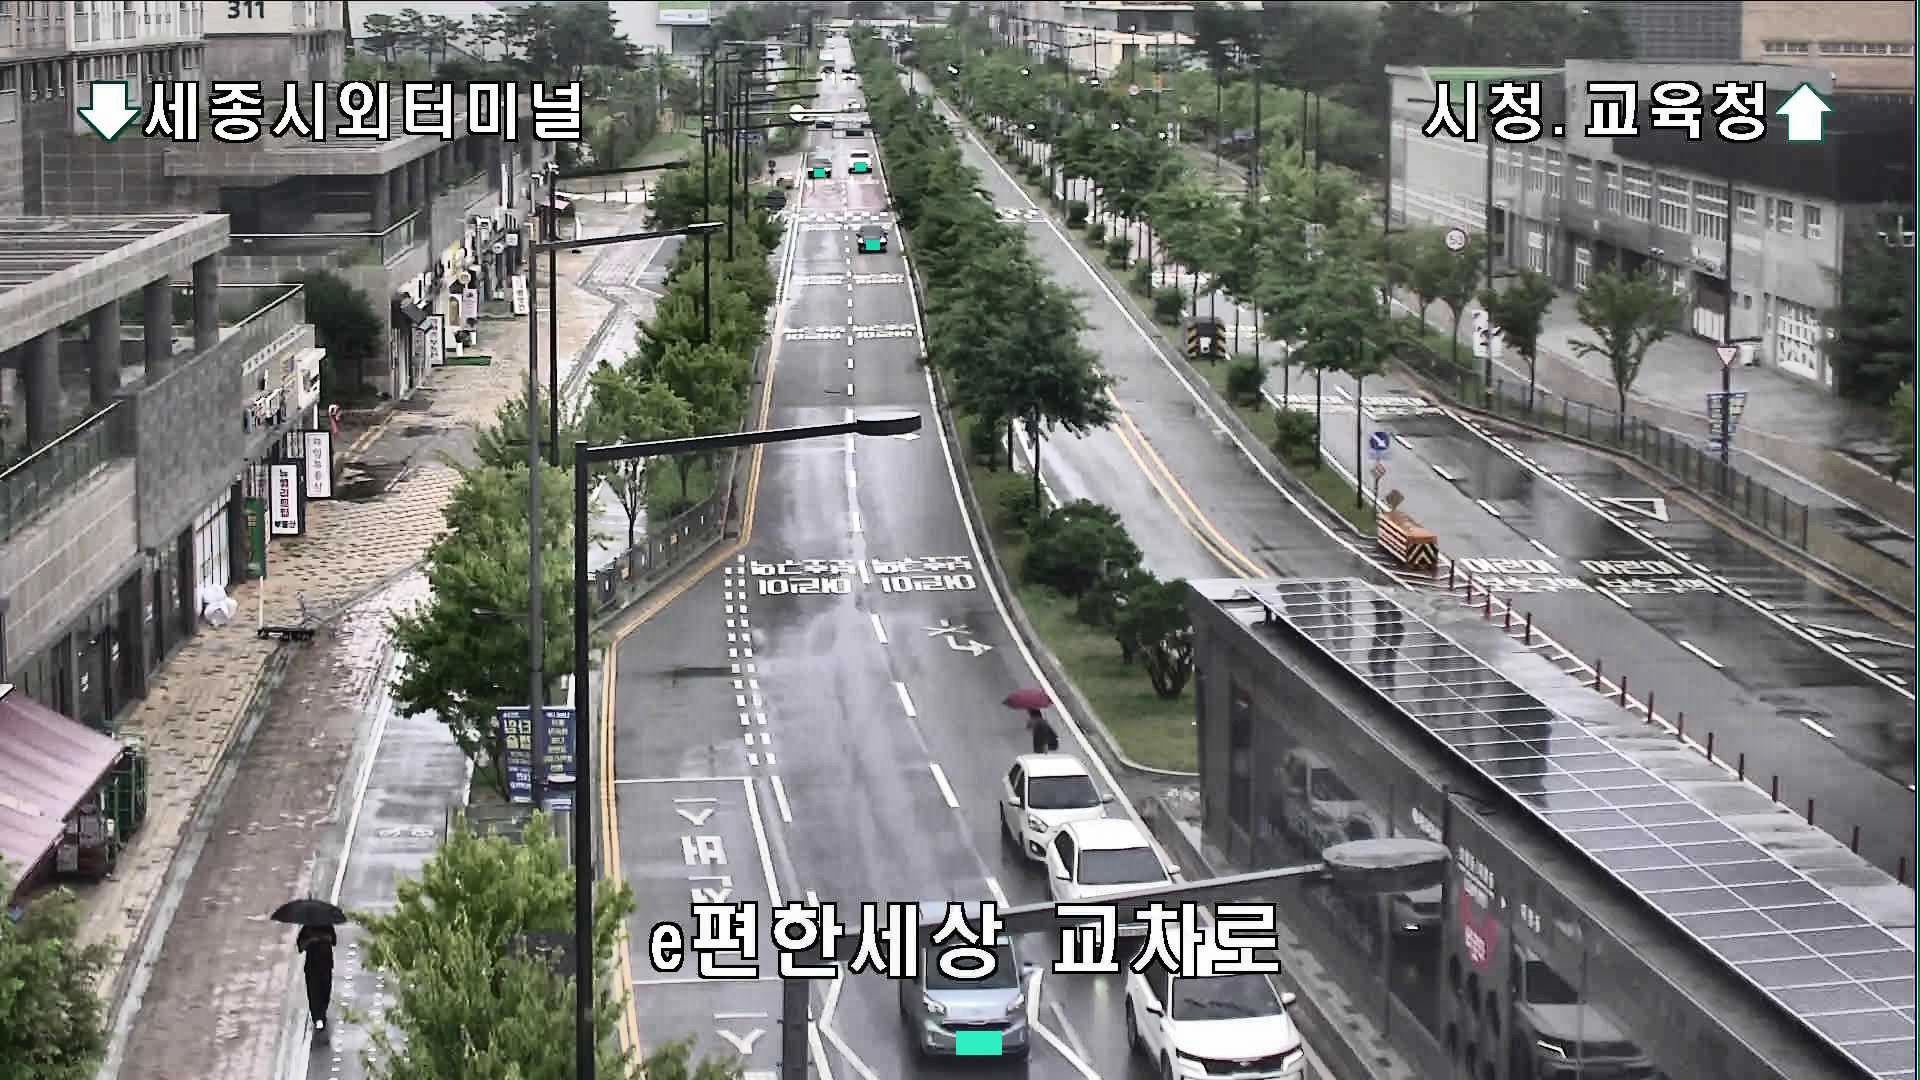um_jaywalk: (1004, 688, 1063, 795)
um_sidewalk: (272, 897, 345, 1033)
